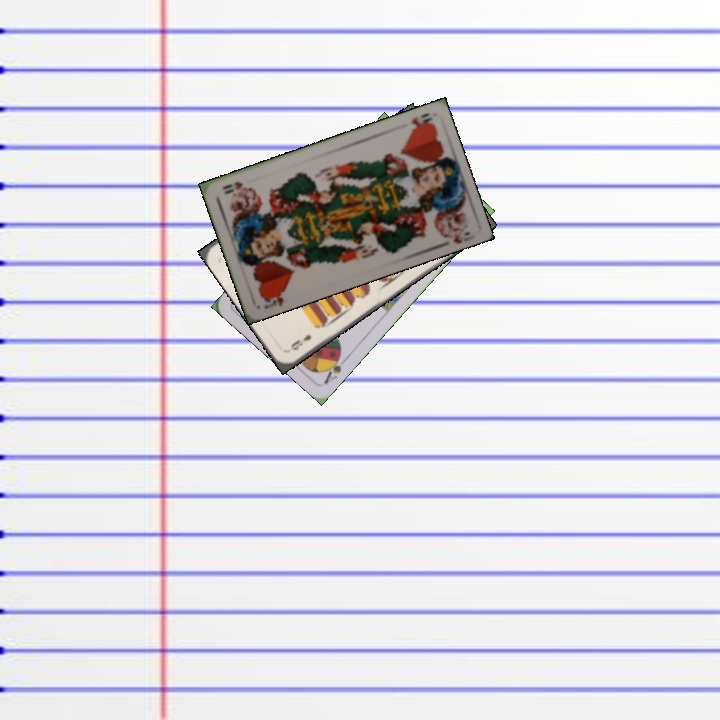E9: (286, 330, 314, 353)
HO: (258, 286, 288, 312), (407, 109, 436, 133)
SA: (320, 348, 351, 387)
